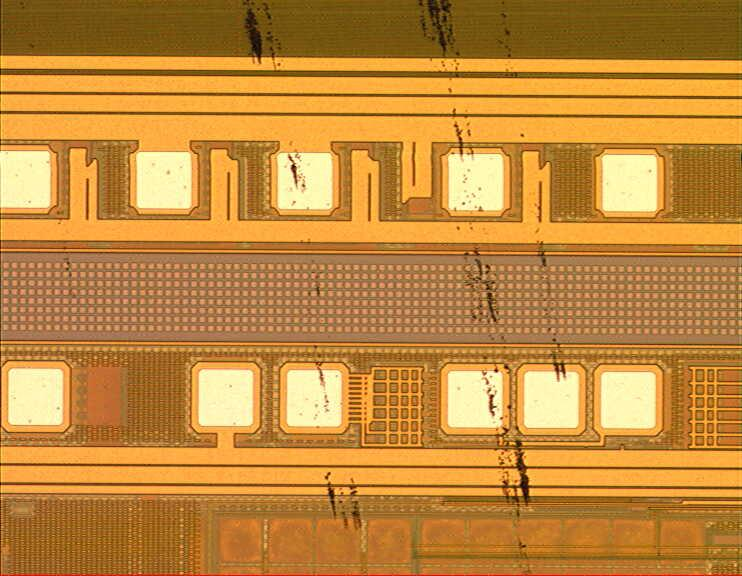SCRATCH: (13, 1, 579, 576)
